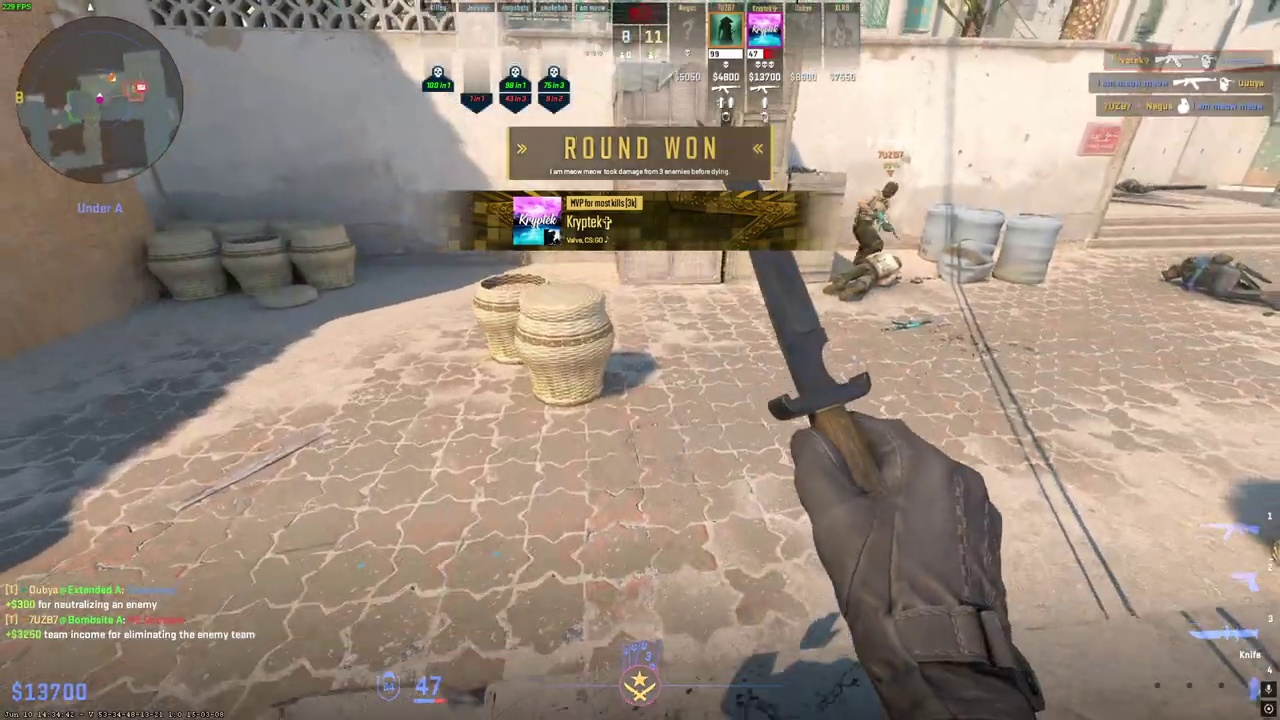Terrorist: (849, 178, 898, 263)
